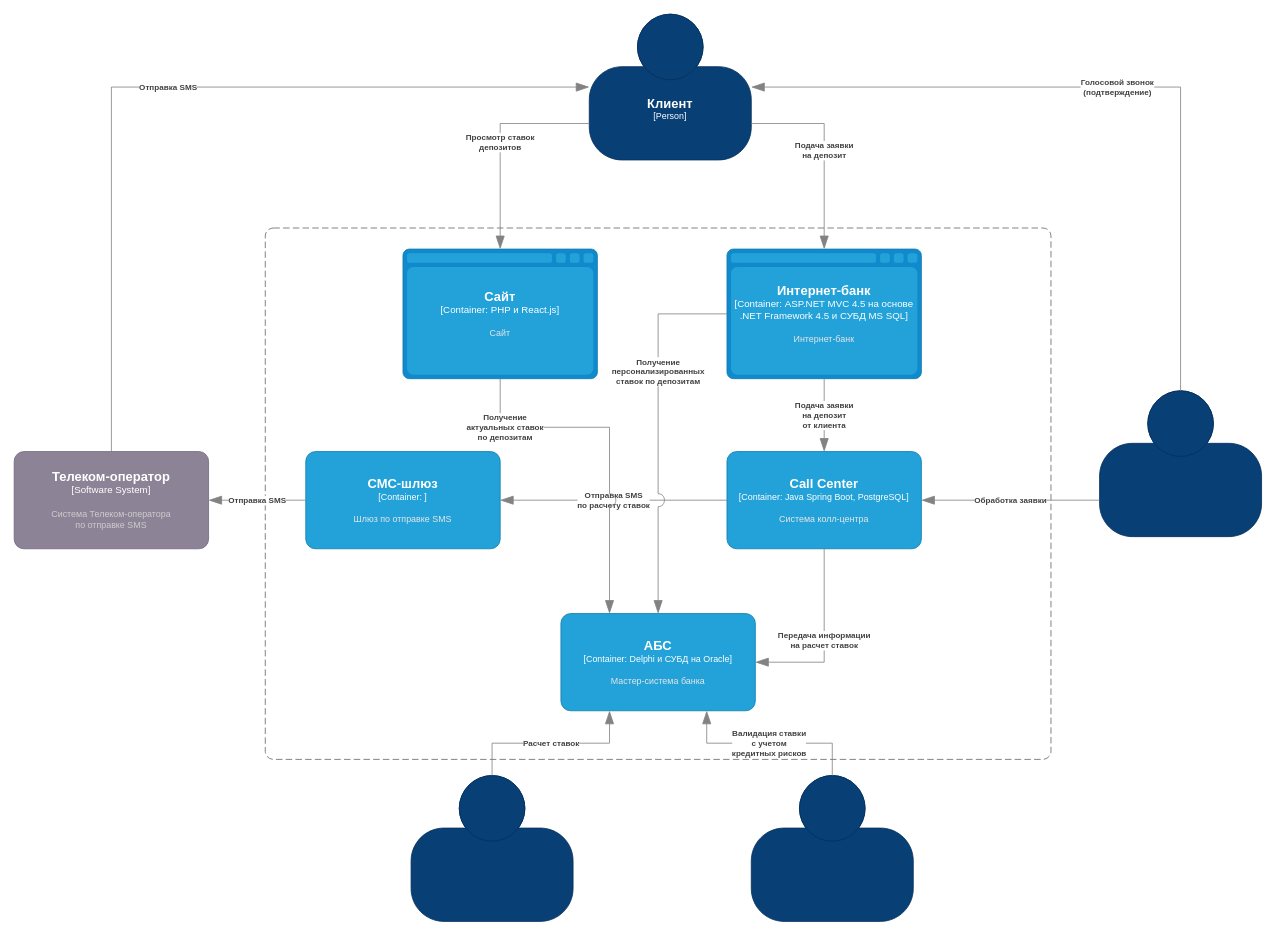
Some shapes in this 1276 by 936 pixel diagram are drawn without their labels. The box of each missing label's shape, as (x1, y1, x2, y2) in pixels:
Credit Manager [Person] Менеджер бэк-офиса (кредиты): (750, 775, 913, 921)
Deposit Manager [Person] Менеджер бэк-офиса (депозиты): (410, 775, 573, 921)
Оператор Call Center [Person] Description of person.: (1099, 390, 1262, 537)
Система Банка Стандарт [Software System]: (264, 227, 1051, 759)
